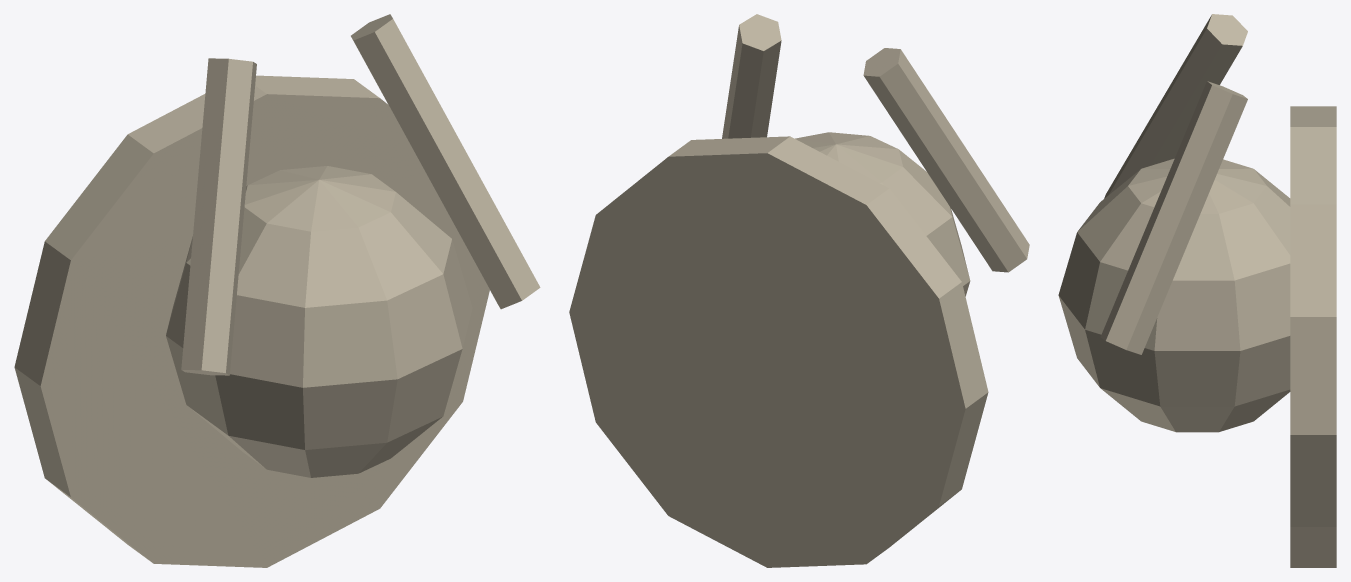
Rendered from trophy_head.glb.
3 renders of one model, left to right at view 1: azimuth 30°, elevation 25°; view 2: azimuth 150°, elevation 25°; view 3: azimuth 270°, elevation 25°, orthographic. The views are drawn at different scales.
Visible parts, largest first — view 1: trophy_head; view 2: trophy_head; view 3: trophy_head.
Boxes of the visible parts, bbox=[...] form: trophy_head: bbox=[14, 14, 540, 567]; trophy_head: bbox=[569, 14, 1029, 567]; trophy_head: bbox=[1058, 14, 1336, 567].
Size of the model in its own units: 0.2 by 0.237 by 0.12.
